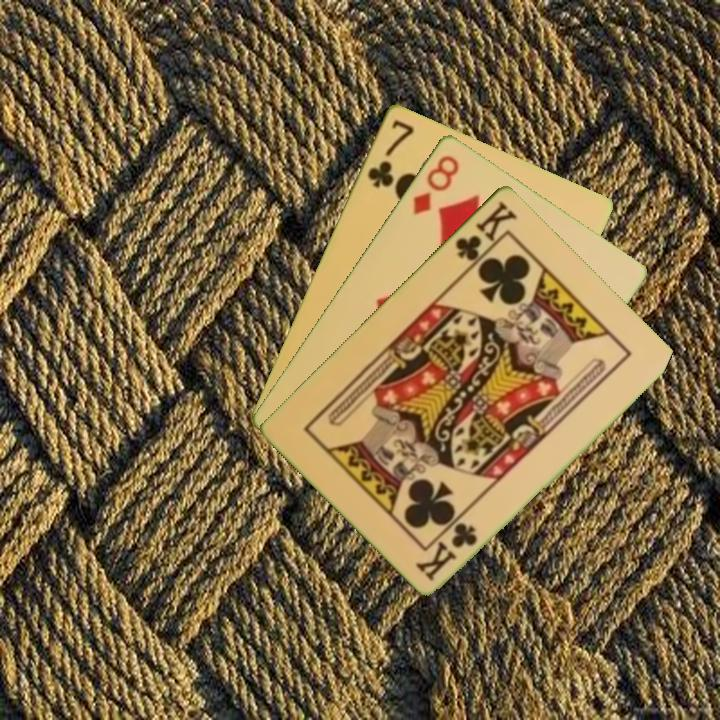7c: (363, 115, 417, 190)
8d: (409, 151, 462, 218)
Kc: (451, 197, 520, 273), (414, 518, 481, 584)
